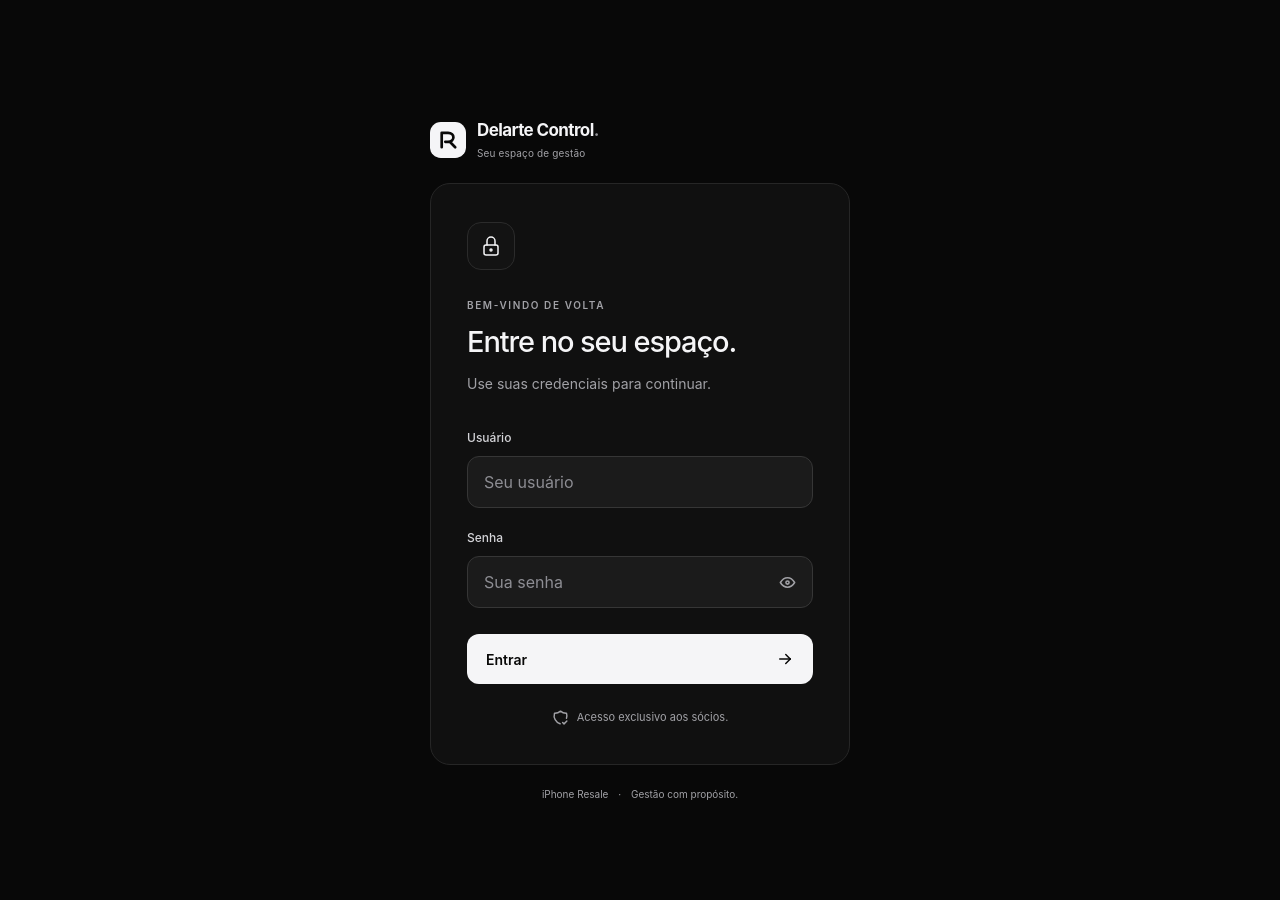
Test: authentication and routing › sends a real-shaped request, stores the token and redirects after login
Type "socio.teste" into the field labelled "Usuário".
click(640, 482); type("socio.teste")  # box [467,456,813,508]
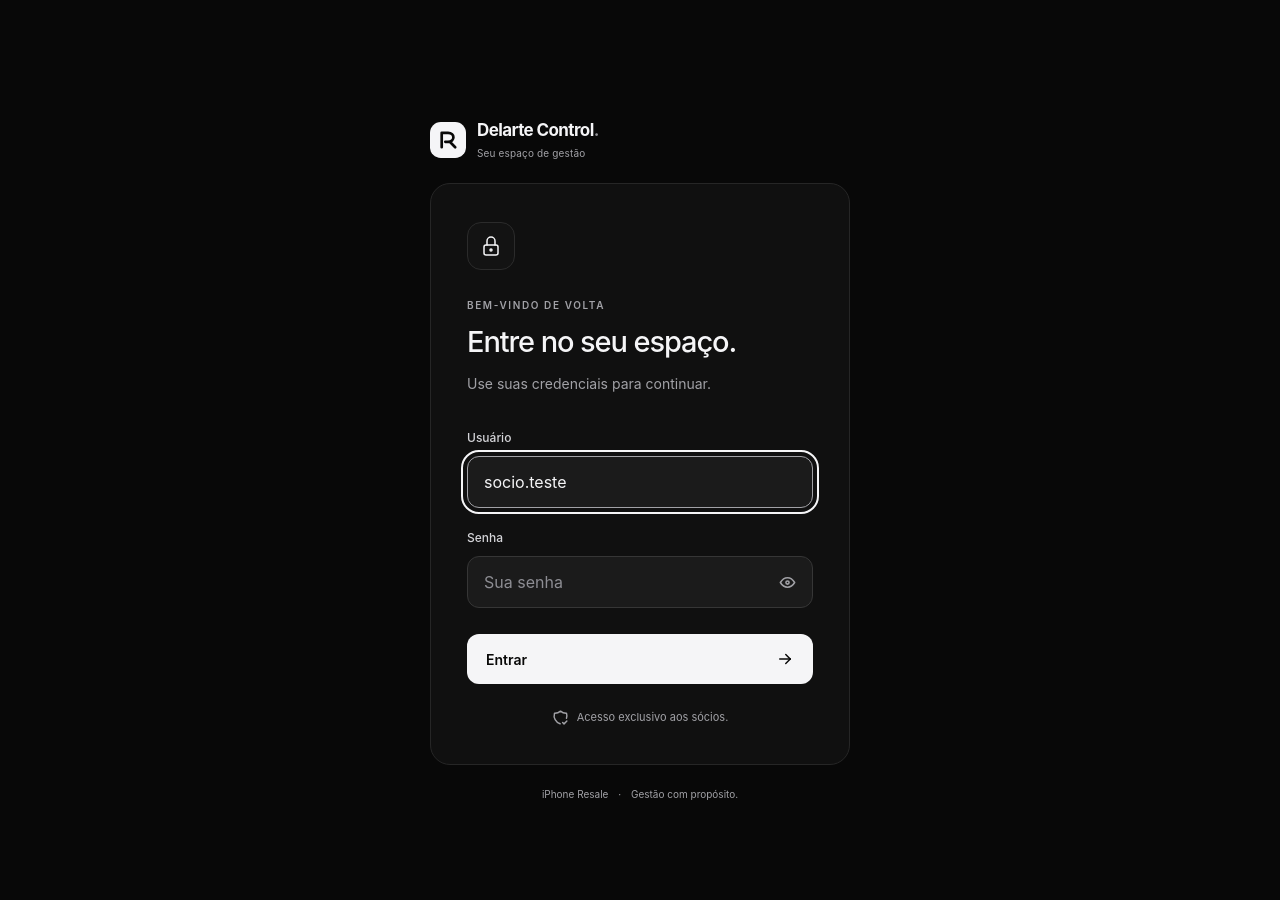
Type "valid-test-password" into the password field labelled "Senha".
click(640, 582); type("valid-test-password")  # box [467,556,813,608]
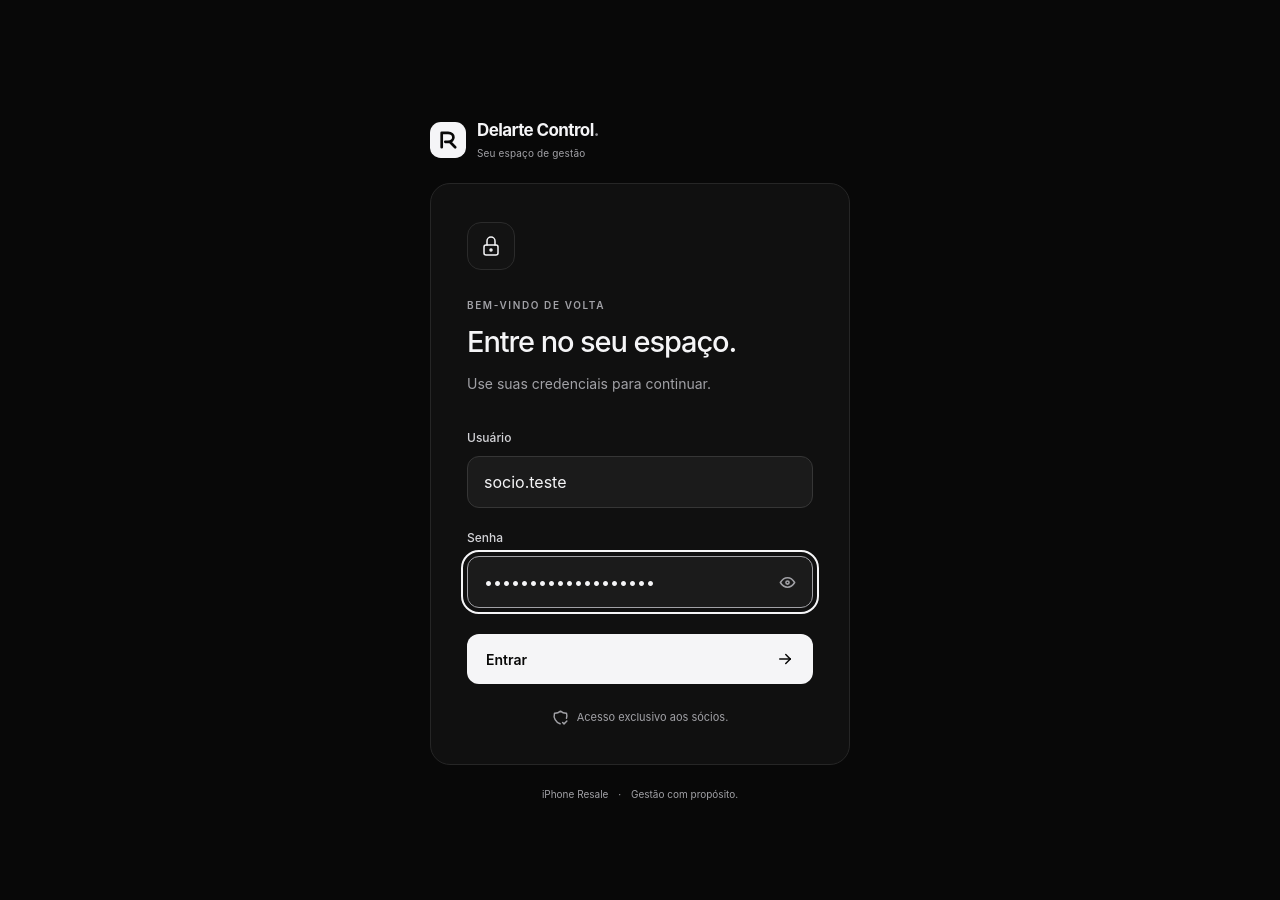
Click the button "Entrar".
click(507, 659)  # box [467,634,813,684]
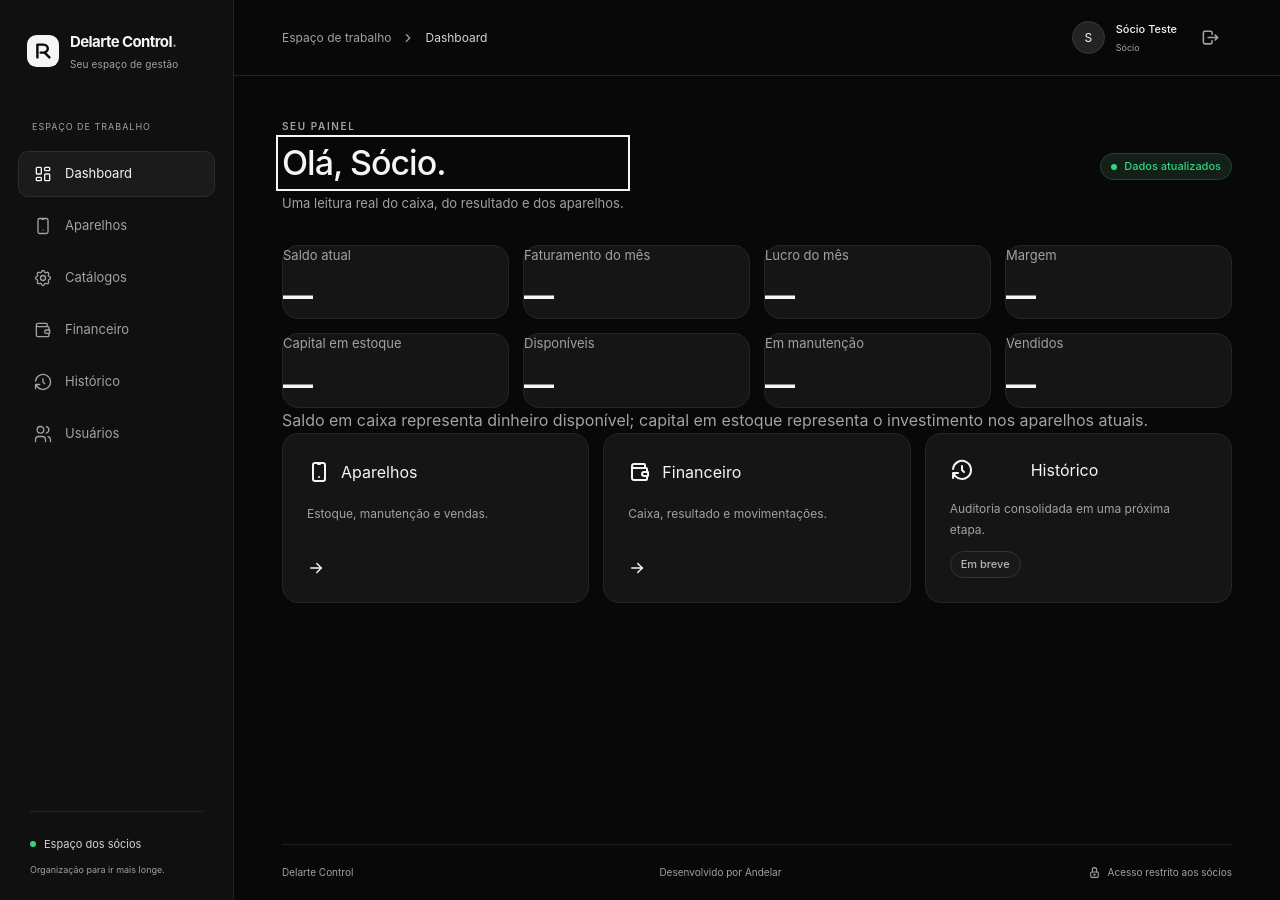
Expected: the heading "Olá, Sócio." is shown, [282,142,446,183]
